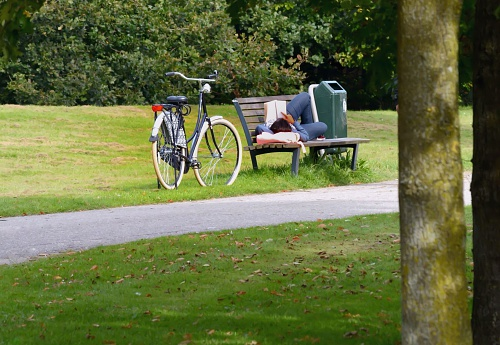deitado: (149, 88, 193, 185)
